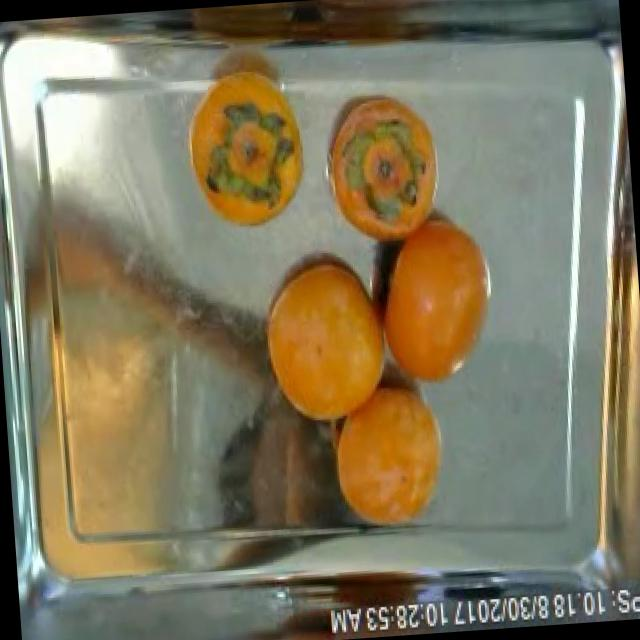Fruit: (250, 228, 402, 446), (54, 352, 200, 567), (364, 198, 512, 405), (200, 374, 354, 554), (173, 68, 310, 245), (320, 371, 461, 538)
